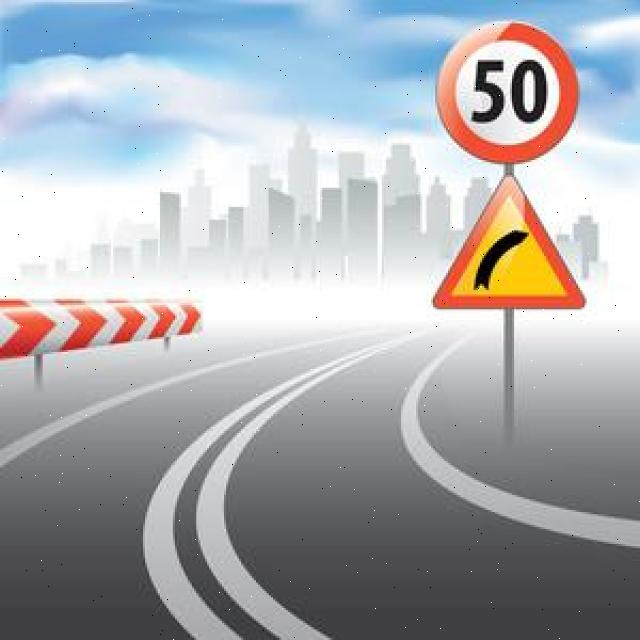speed limit 50: (433, 19, 580, 165)
